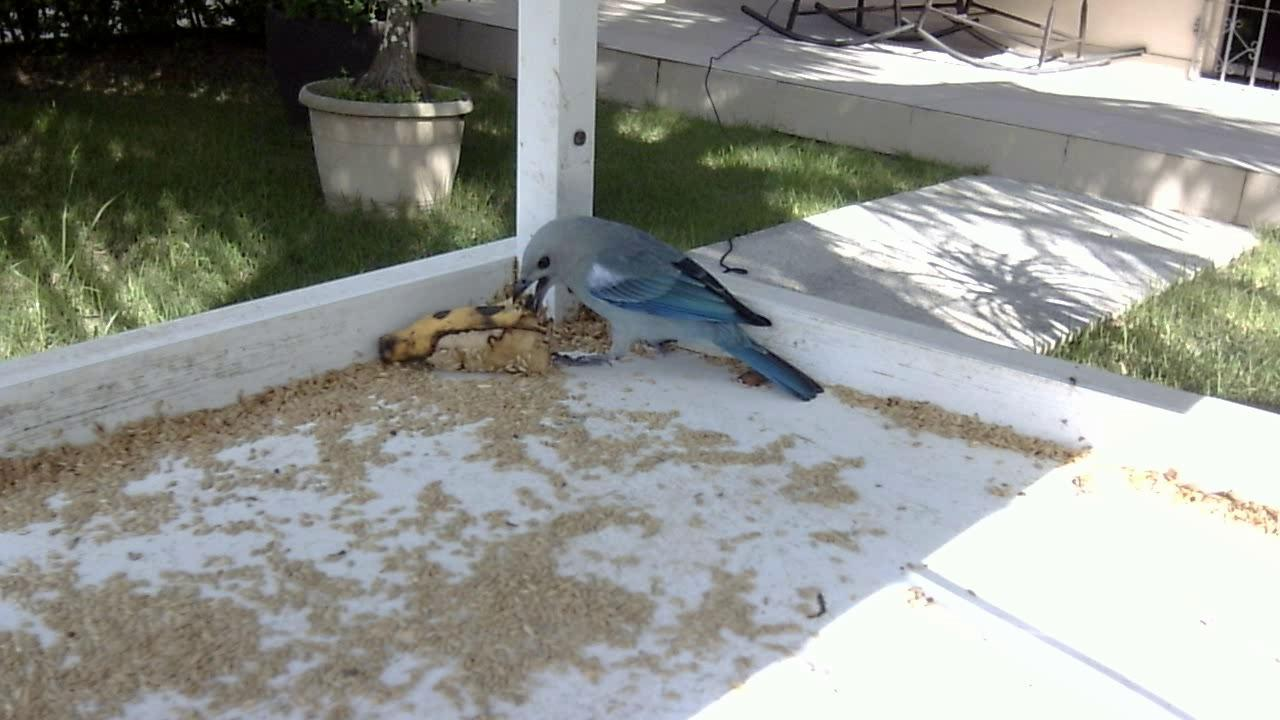sanhaco_da_amazonia: (513, 211, 841, 411)
